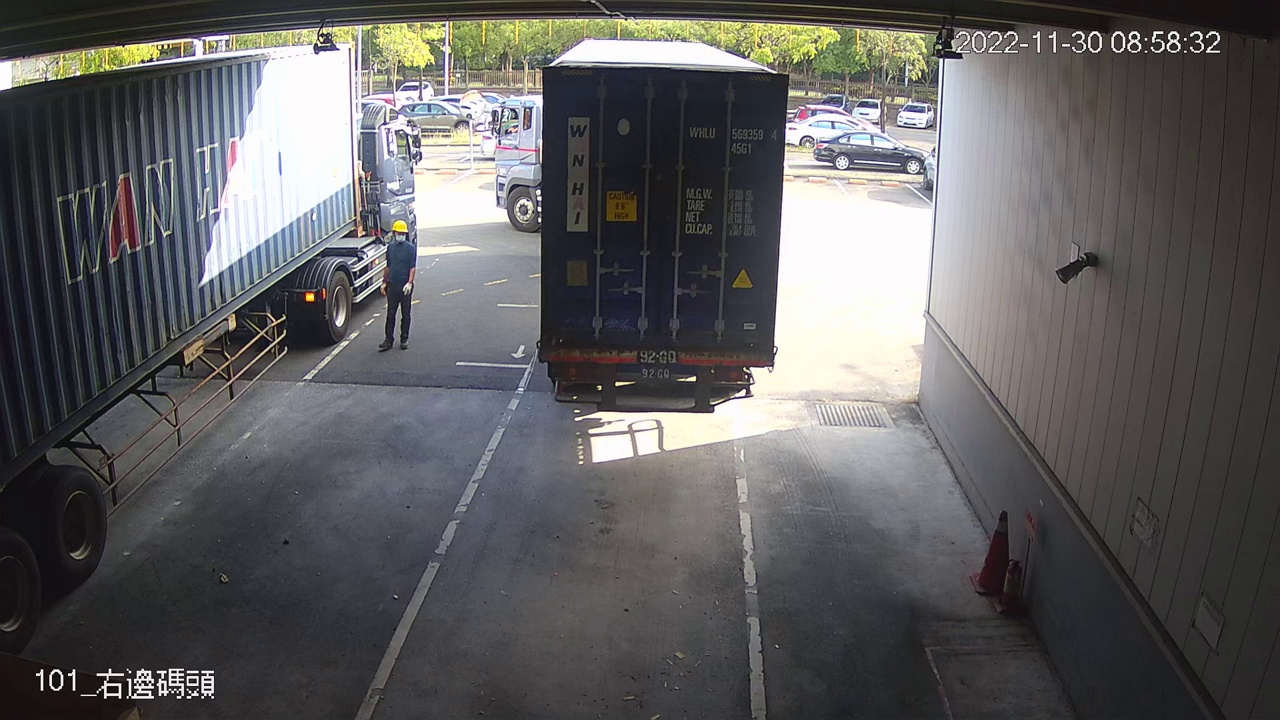container: (685, 121, 781, 161)
